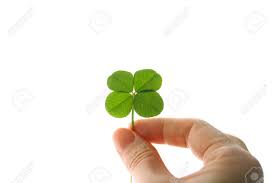4-clover: (106, 69, 164, 117)
